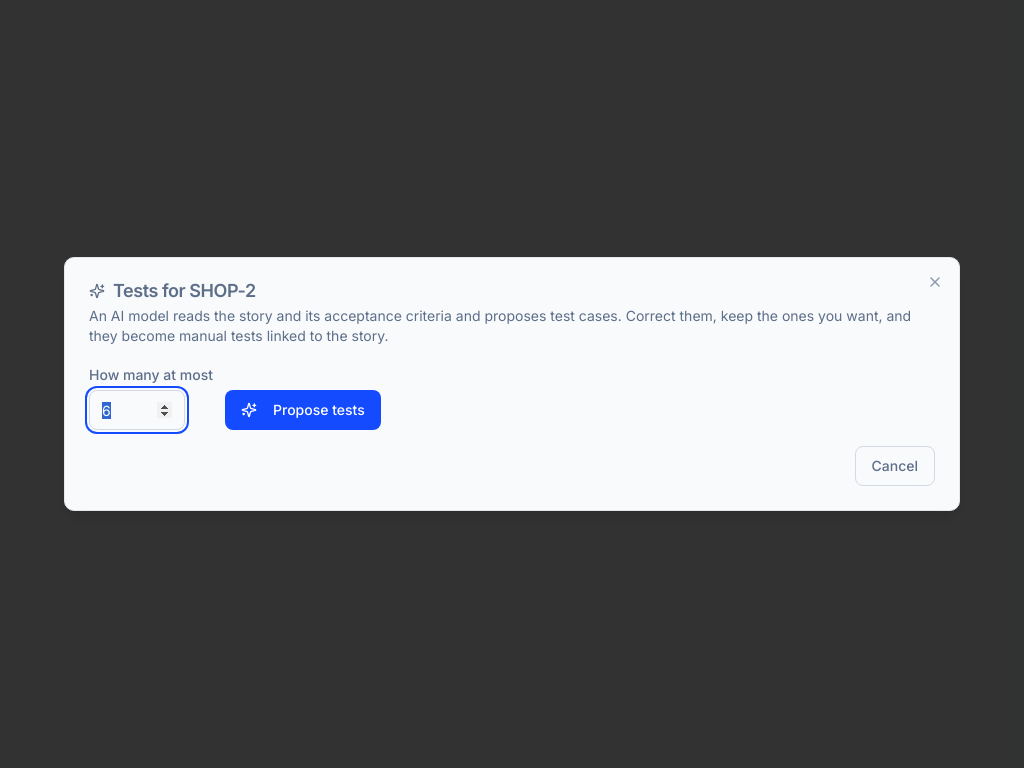
Test: GenerateTestsDialog › names a test whose name is taken, and refuses a case left without steps
Click the button "Propose tests".
click(303, 410)  # box [225,390,381,430]
(page scrolled)
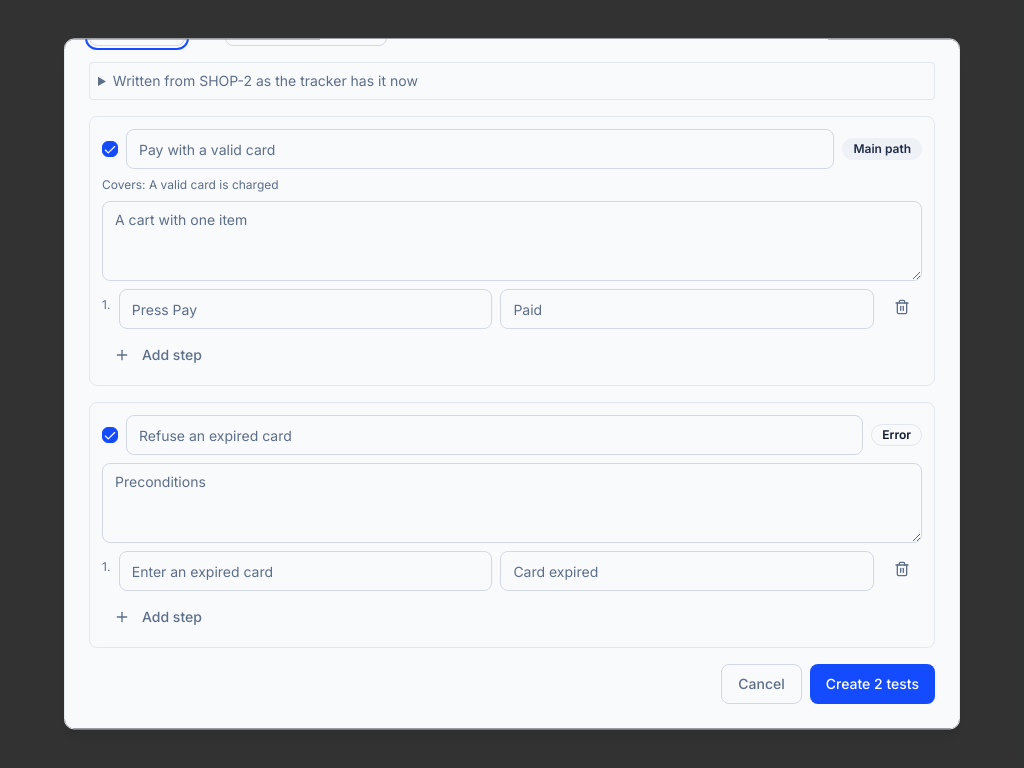
Check: the field showing "Pay with a valid card" is shown, box [126,129,834,169]
Click the button "Create 2 tests".
click(872, 684)  # box [810,664,935,704]
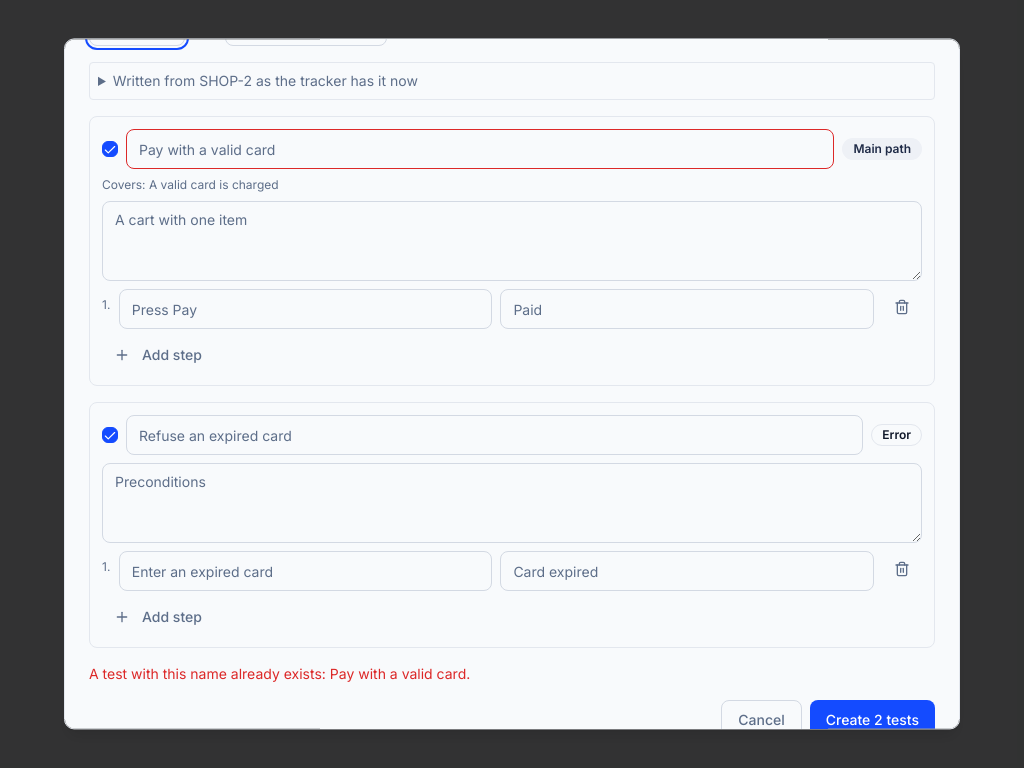
Check: the message shows "Pay with a valid card", box [89,665,470,682]
Click the button named "Remove step 1 of test 2".
click(902, 569)  # box [882,551,922,587]
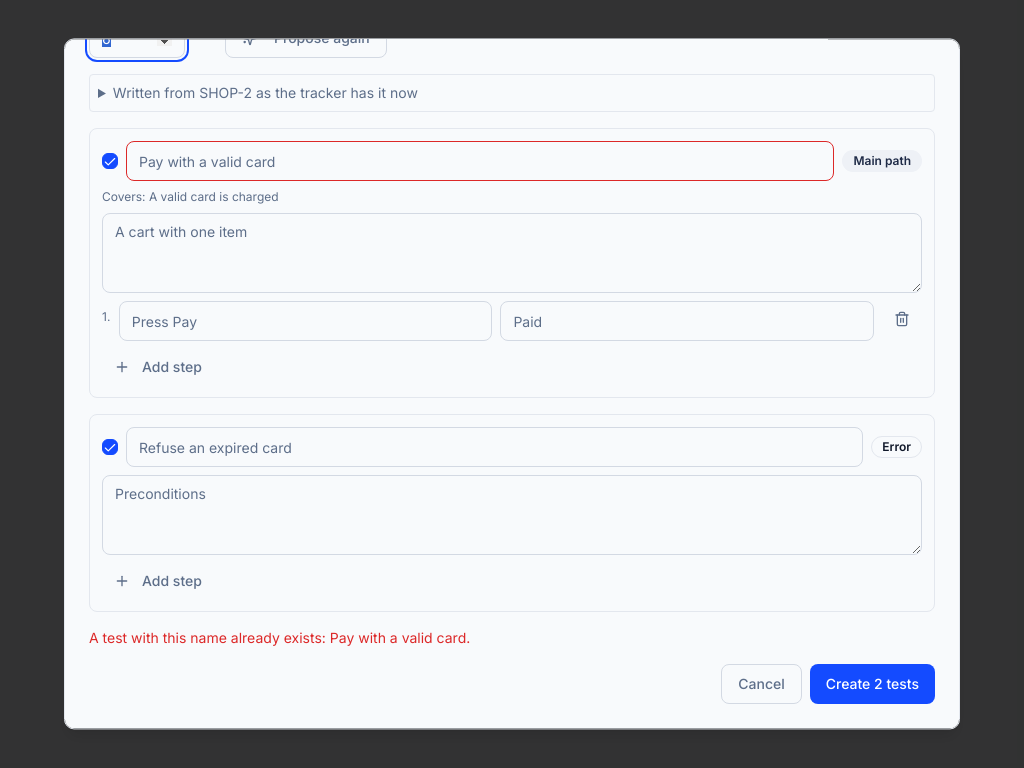
Click the button "Create 2 tests".
click(872, 684)  # box [810,664,935,704]
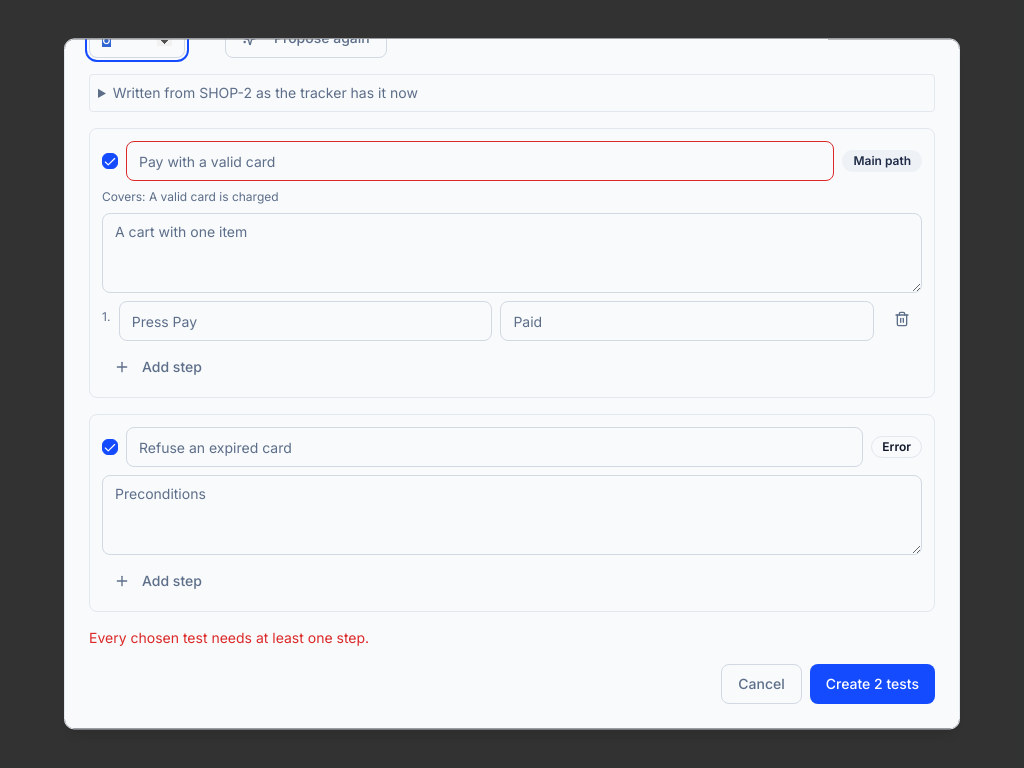
Check: the message reads "Every chosen test needs at least one step.", box [89,629,369,646]
